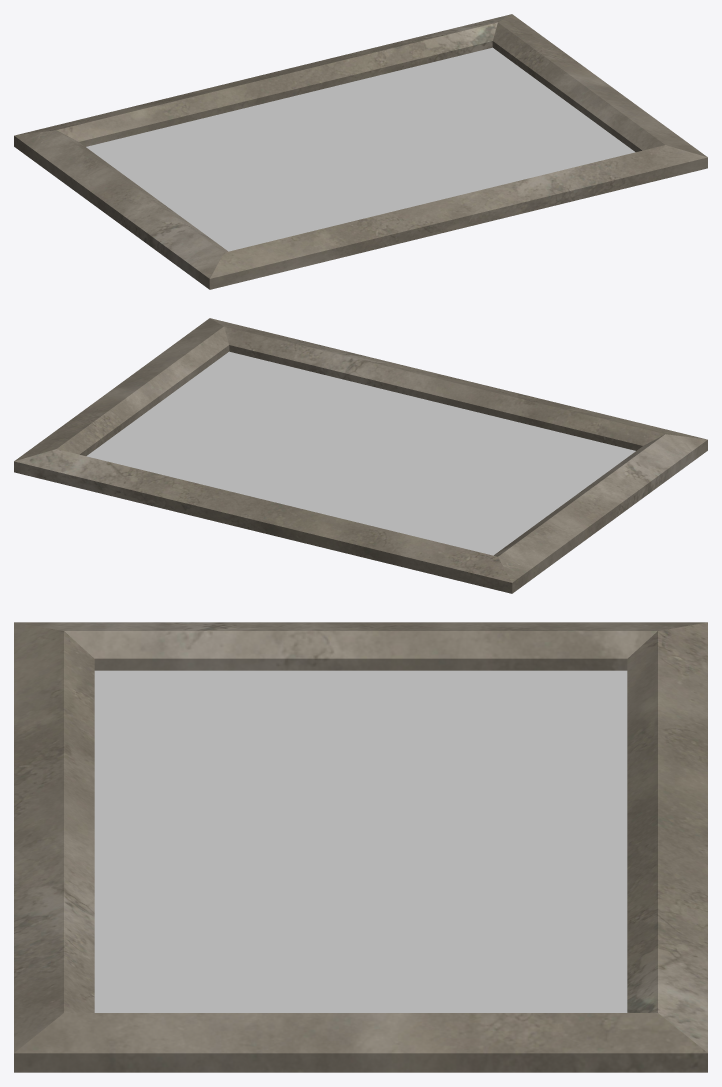
File: Frame1.gltf
3 renders of one model, top to bottom at view 1: azimuth 30°, elevation 25°; view 2: azimuth 150°, elevation 25°; view 3: azimuth 270°, elevation 25°, orthographic. The views are drawn at different scales.
Visible parts, largest first — view 1: Plane; view 2: Plane; view 3: Plane.
Part boxes in pixels (x1,y1,x2,y2): Plane: (14,14,707,289); Plane: (14,318,707,593); Plane: (14,622,707,1072).
Size of the model in its own units: 9.98 by 0.3807 by 6.79.
